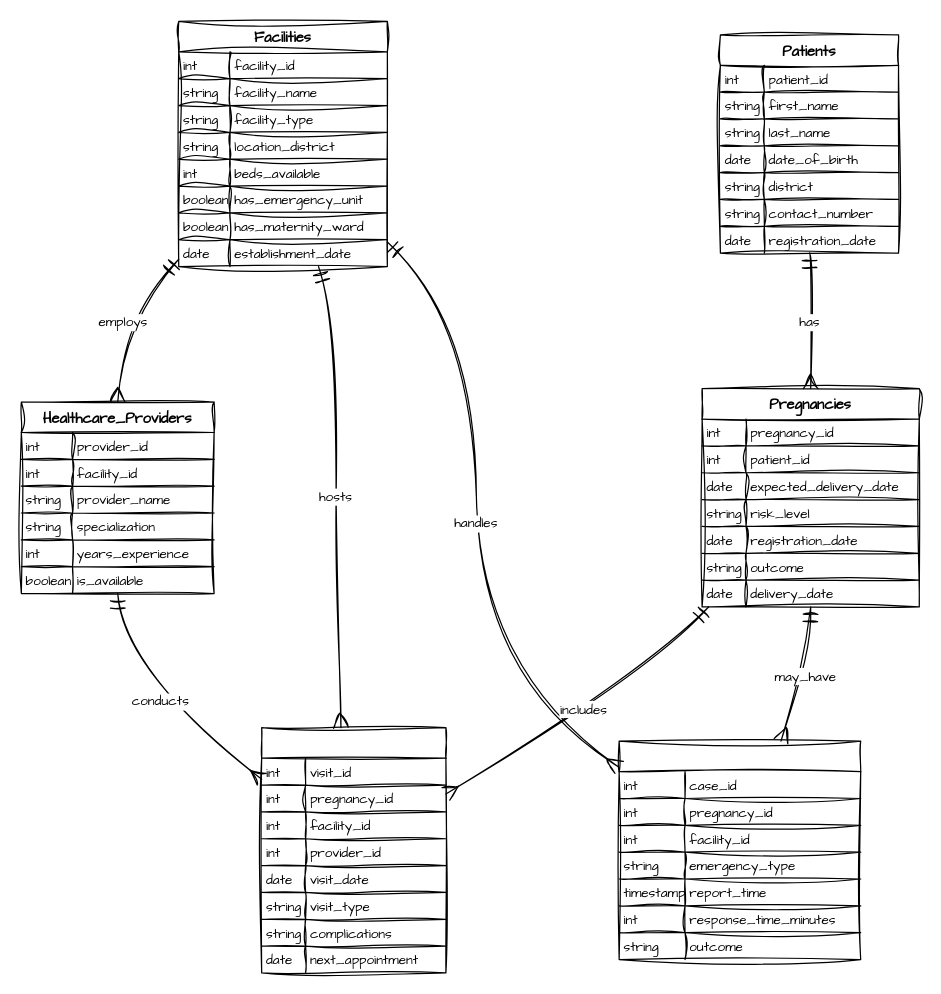
The diagram is 941 pixels wide and 994 high, and some of its shapes have lost their labels. The shapes that lost their labels are listed below. From the top down, each one's box as (x1, y1, x2, y2) in pixels, then its label:
(260, 727, 446, 973): Prenatal_Visits
(618, 740, 861, 960): Emergency_Cases
